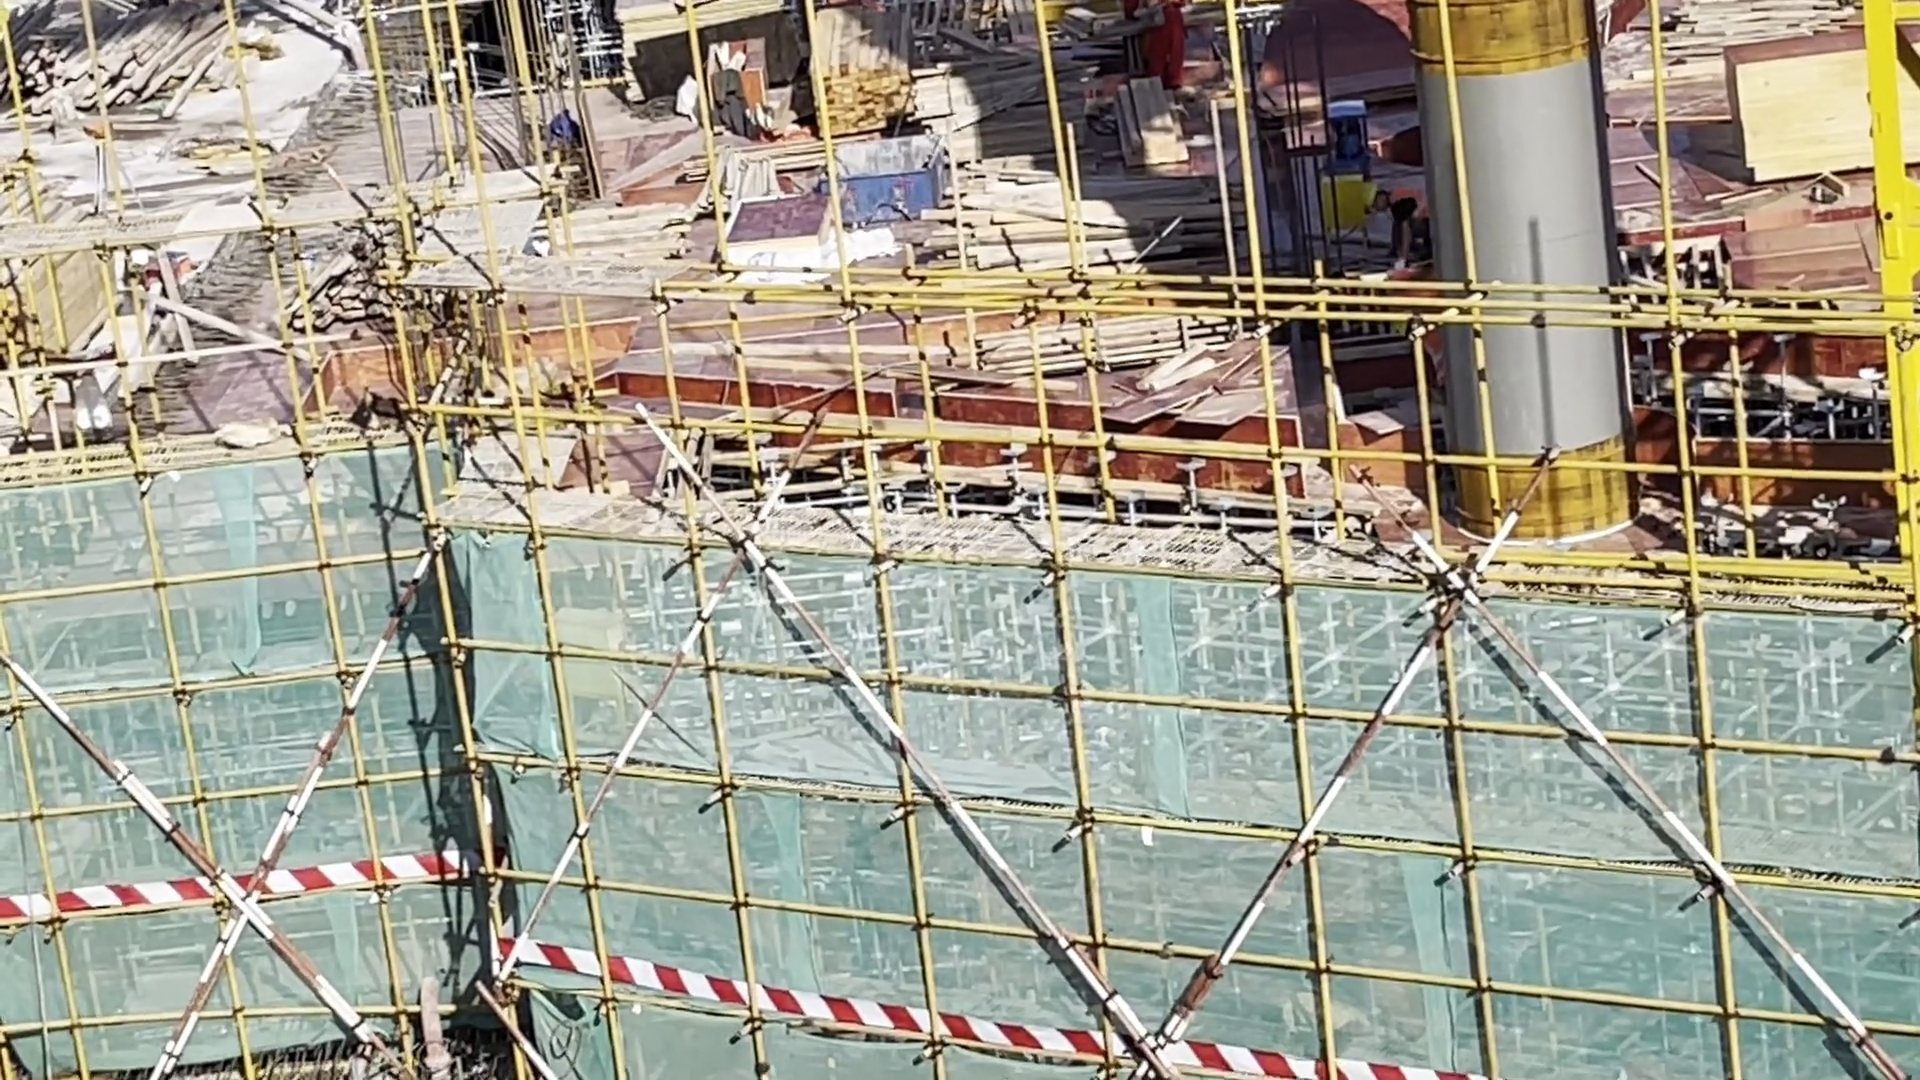helmet: (1360, 183, 1390, 212)
hopper: (830, 137, 960, 224)
person: (1356, 177, 1451, 297)
vest: (1391, 188, 1432, 227)
wood: (904, 164, 1199, 275), (10, 16, 199, 131)
